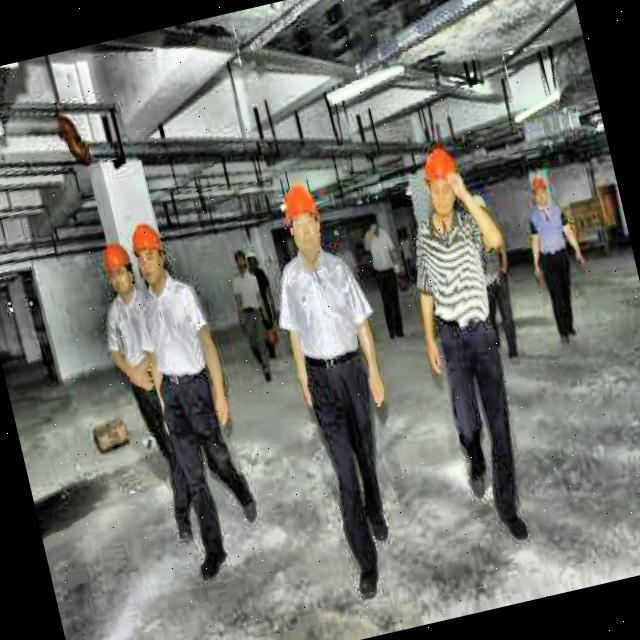helmet: (276, 176, 332, 260), (417, 141, 468, 220), (122, 215, 174, 290), (94, 236, 138, 303), (528, 172, 554, 210)
